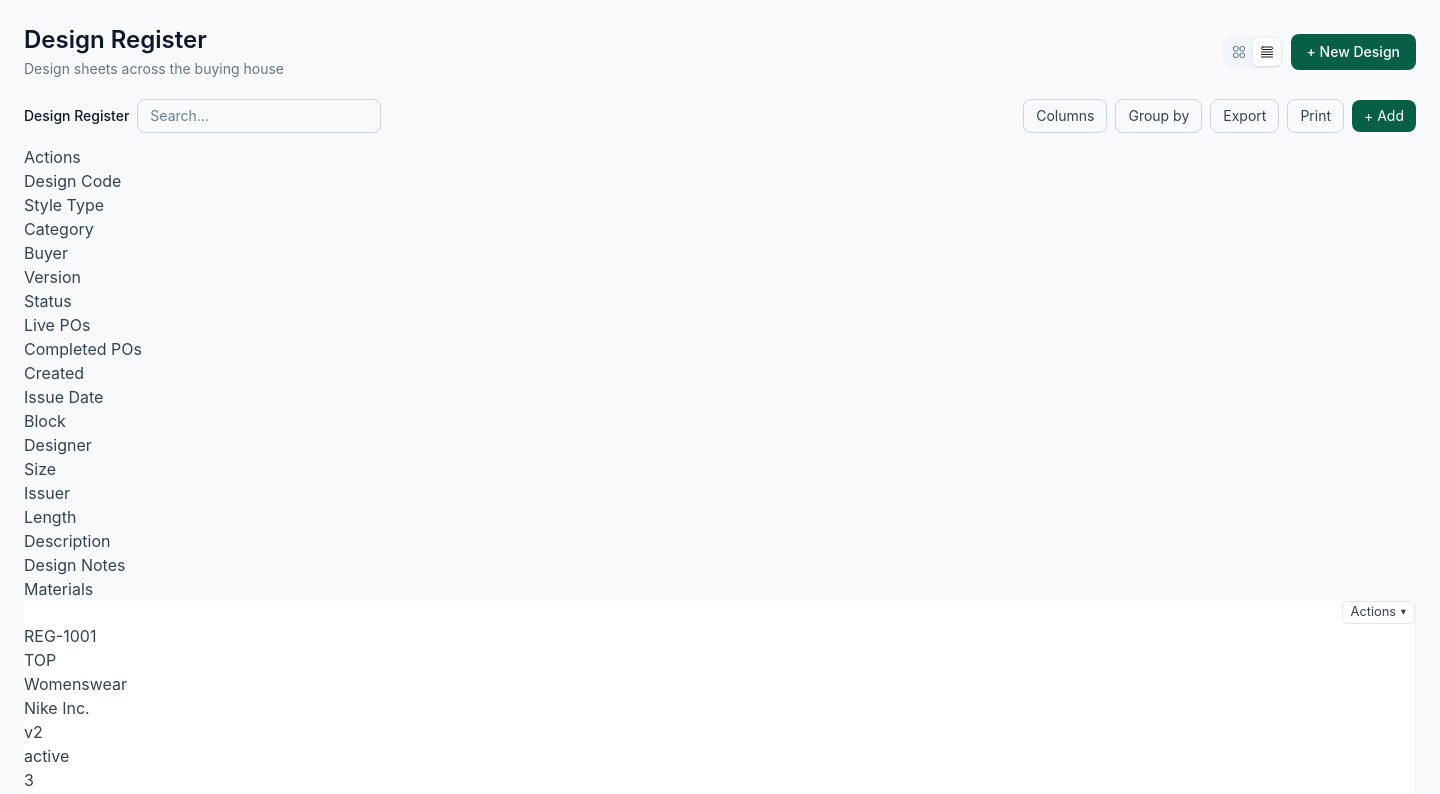
it: DesignsPage (Design register) › offers every design action from a single Actions menu per row
Expected: the text "REG-1001" is shown, x1=24 y1=624 x2=1416 y2=648
What coordinates should you click on to do the following:
click the button "Actions ▾"
I would click on:
 (1378, 613)
Its box is x1=1342 y1=601 x2=1415 y2=624.
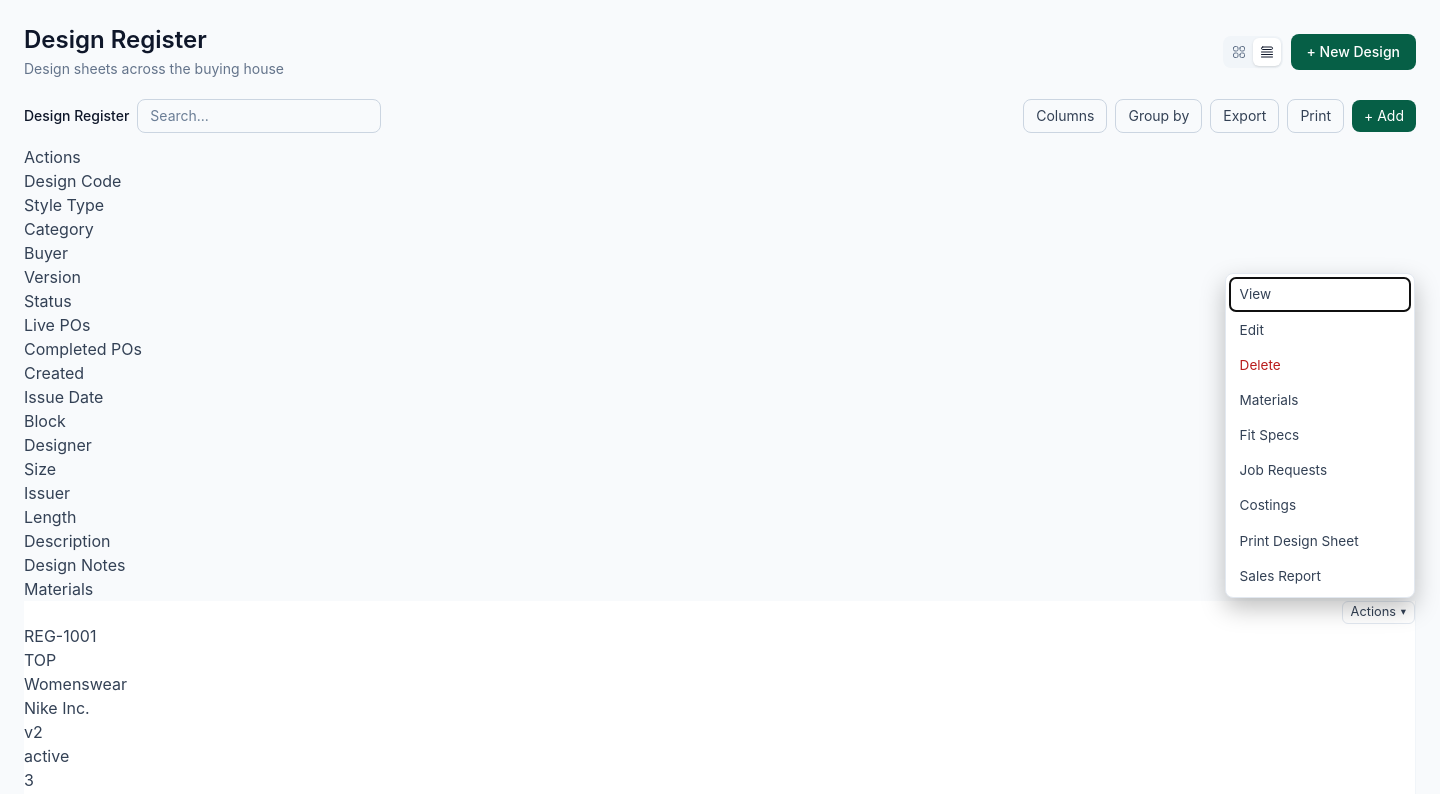
Result: the menu item "View" is shown at x1=1230 y1=278 x2=1410 y2=311
Result: the menu item "Edit" is shown at x1=1230 y1=313 x2=1410 y2=346
Result: the menu item "Delete" is shown at x1=1230 y1=348 x2=1410 y2=382
